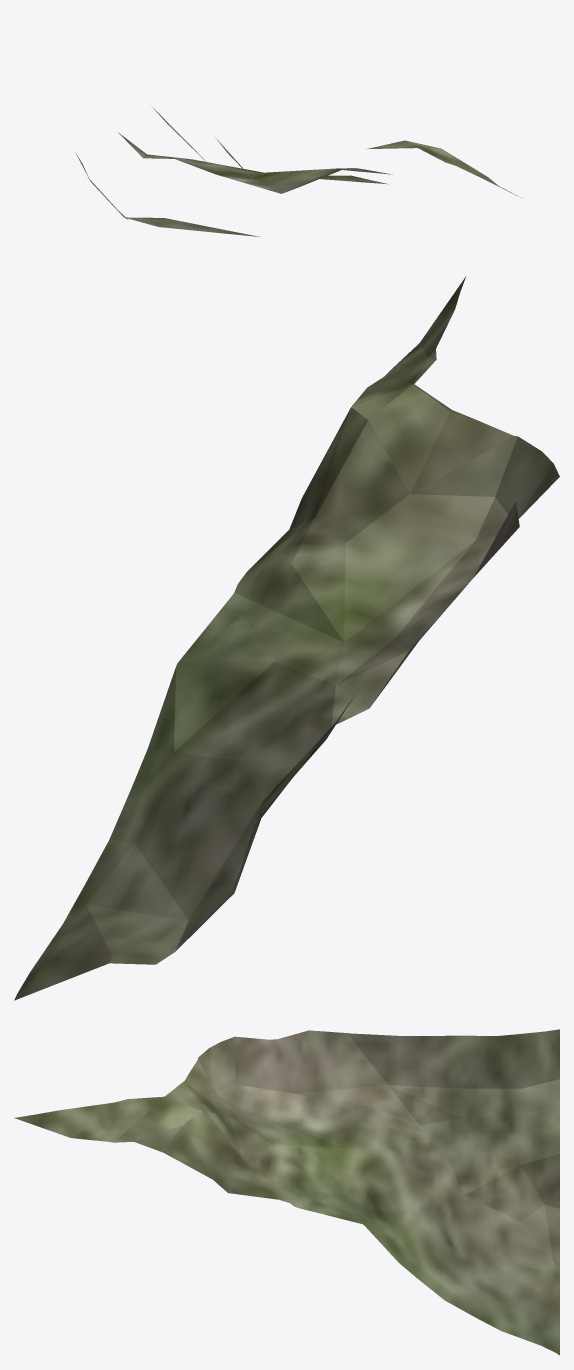
3 renders of one model, top to bottom at view 1: azimuth 30°, elevation 25°; view 2: azimuth 150°, elevation 25°; view 3: azimuth 270°, elevation 25°, orthographic. The views are drawn at different scales.
Bounding box in the file's own units: 0.3968 × 0.4958 × 1.03.
1 material, 1 textured.
